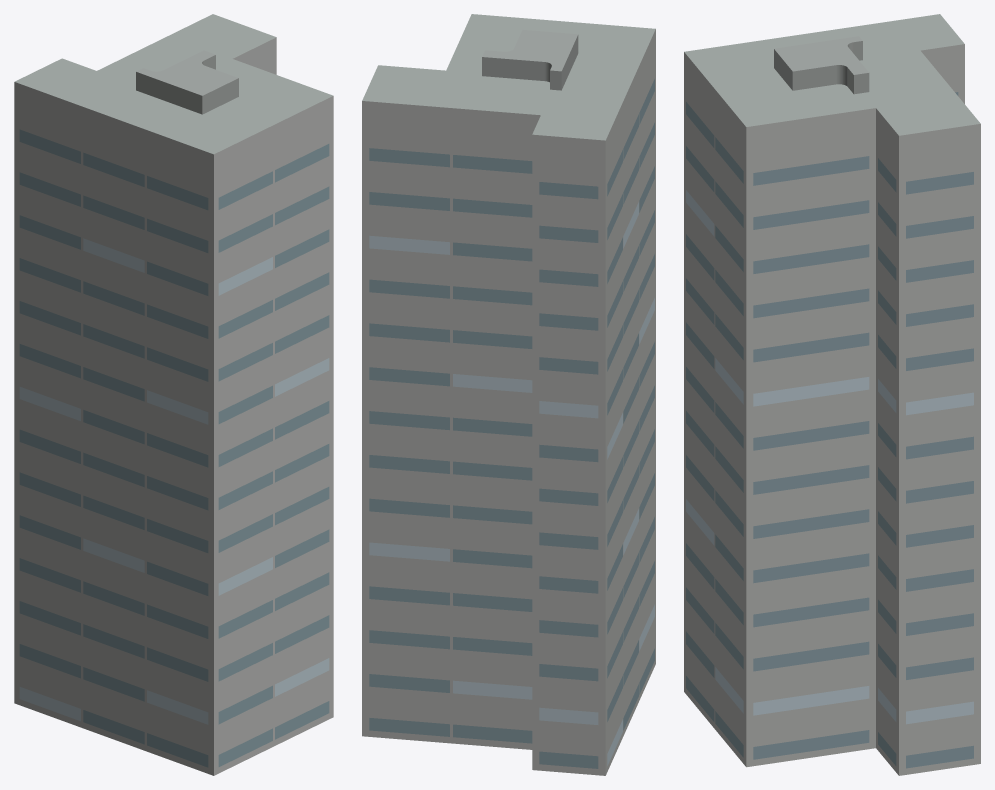
File: fallback-songpa-helio-city-202.glb
3 views of the same model, side by side, from view 1: azimuth 30°, elevation 25°; view 2: azimuth 150°, elevation 25°; view 3: azimuth 270°, elevation 25° (orthographic). The views are drawn at different scales.
Visible parts, largest first — view 1: fallback-songpa-helio-city-202; view 2: fallback-songpa-helio-city-202; view 3: fallback-songpa-helio-city-202.
Boxes of the visible parts, left/top/right/bottom form: fallback-songpa-helio-city-202: left=14, top=14, right=333, bottom=775; fallback-songpa-helio-city-202: left=362, top=14, right=655, bottom=775; fallback-songpa-helio-city-202: left=684, top=14, right=980, bottom=775.
Size of the model in its own units: 32.49 by 82 by 33.45.
